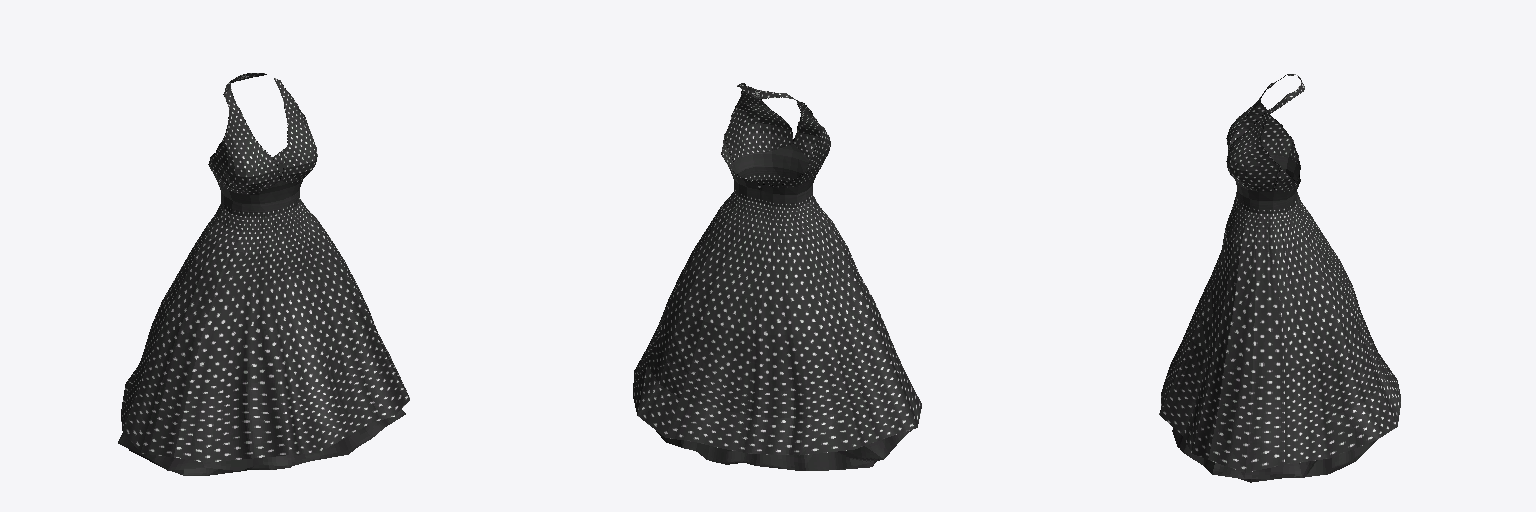
3 views of the same model, side by side, from view 1: azimuth 30°, elevation 25°; view 2: azimuth 150°, elevation 25°; view 3: azimuth 270°, elevation 25° (orthographic).
Visible parts, largest first — view 1: _mesh_Untitled; view 2: _mesh_Untitled; view 3: _mesh_Untitled.
Part boxes in pixels (bbox=[...]): _mesh_Untitled: bbox=[118, 73, 409, 475]; _mesh_Untitled: bbox=[633, 83, 921, 470]; _mesh_Untitled: bbox=[1159, 74, 1400, 482].
Size of the model in its own units: 1.6 by 2.02 by 1.26.
1 materials, 1 textured.